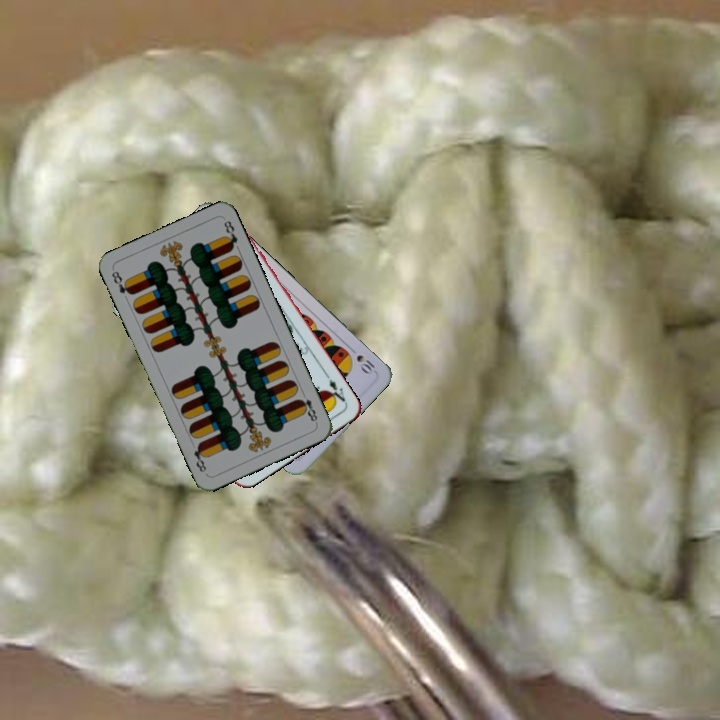E8: (295, 387, 320, 426), (108, 267, 135, 297)
EA: (322, 371, 349, 407)
S10: (352, 350, 378, 377)
